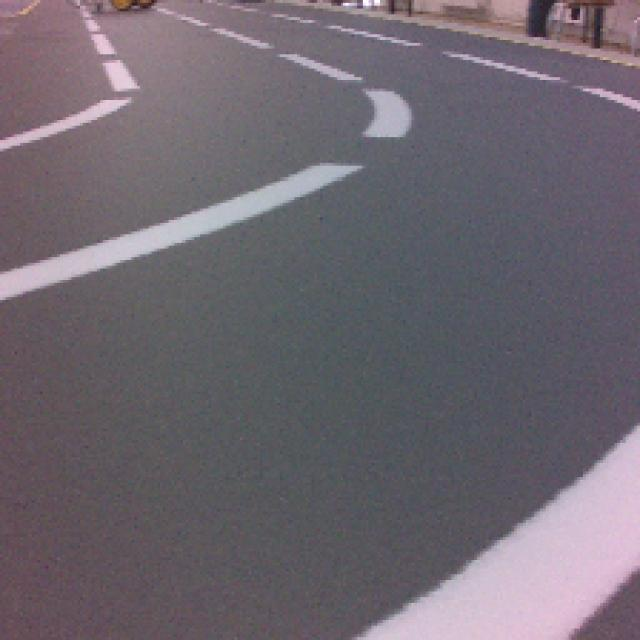Pedestrian crosswalk: (381, 429, 640, 640)
